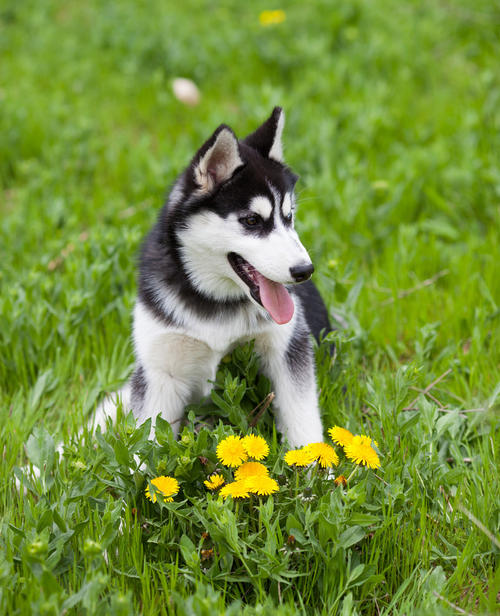dog: (124, 104, 358, 350)
